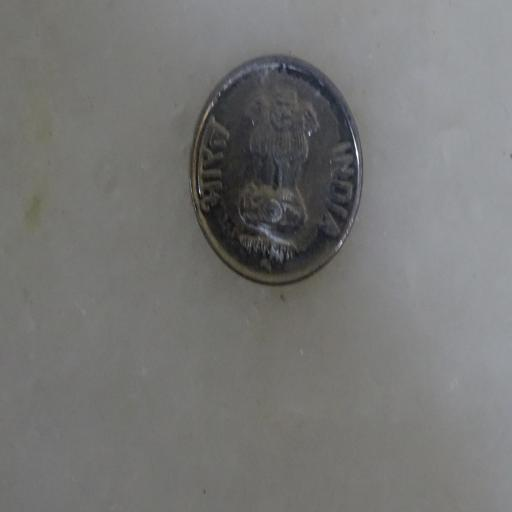rupee1: (188, 57, 363, 285)
